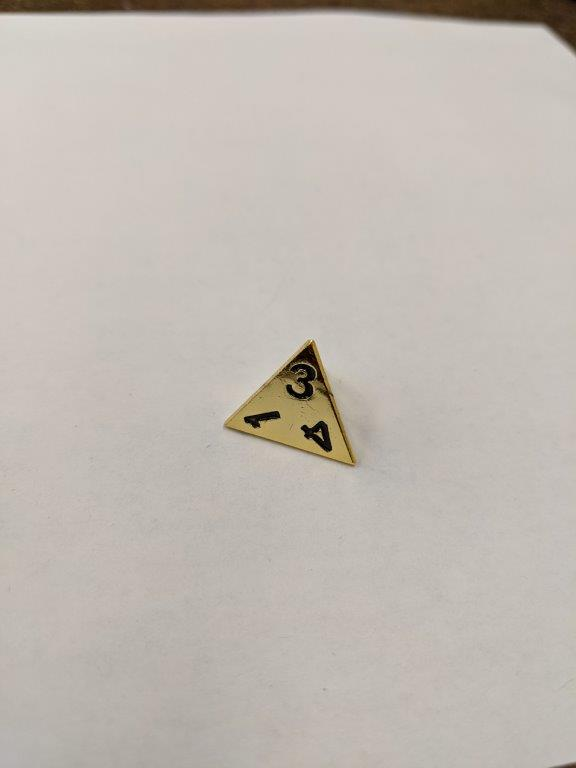d4-3: (216, 334, 362, 481)
